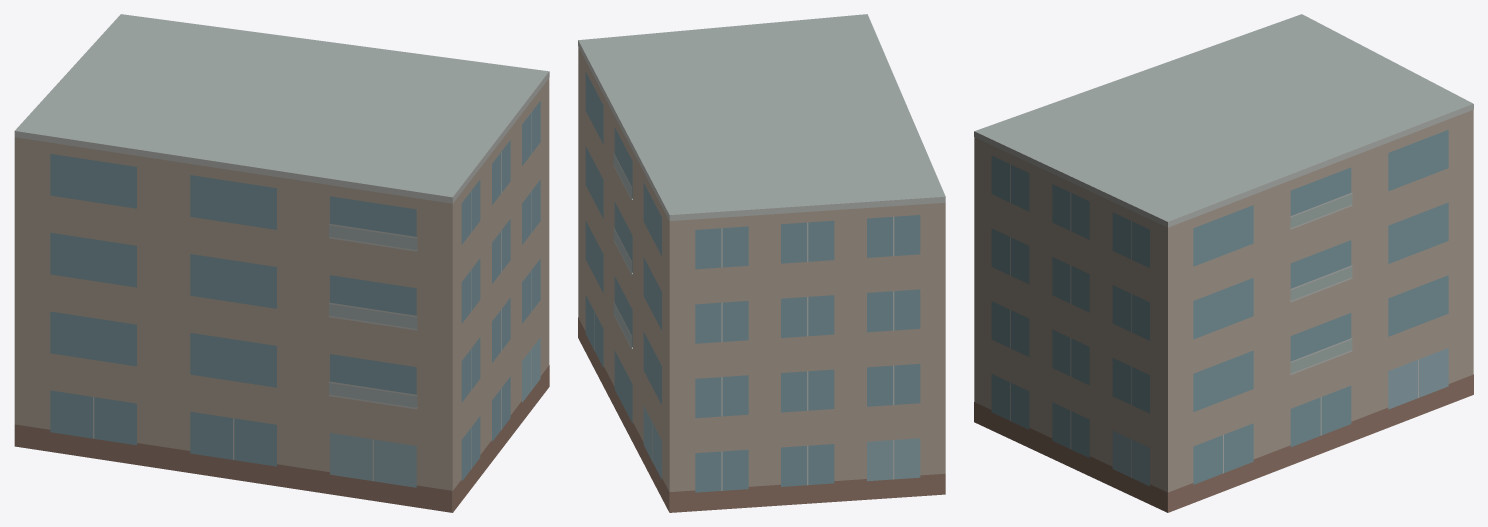
The model's file is survey-upis-32768462.glb.
The picture shows the model from 3 angles, left to right: view 1: azimuth 30°, elevation 25°; view 2: azimuth 150°, elevation 25°; view 3: azimuth 270°, elevation 25°; orthographic projection. The views are drawn at different scales.
Visible parts, largest first — view 1: survey-upis-32768462.tmp; view 2: survey-upis-32768462.tmp; view 3: survey-upis-32768462.tmp.
Part boxes in pixels (x1,y1,x2,y2): survey-upis-32768462.tmp: (14, 14, 549, 512); survey-upis-32768462.tmp: (578, 14, 945, 512); survey-upis-32768462.tmp: (974, 14, 1473, 512).
Size of the model in its own units: 18.71 by 12.2 by 18.99.
